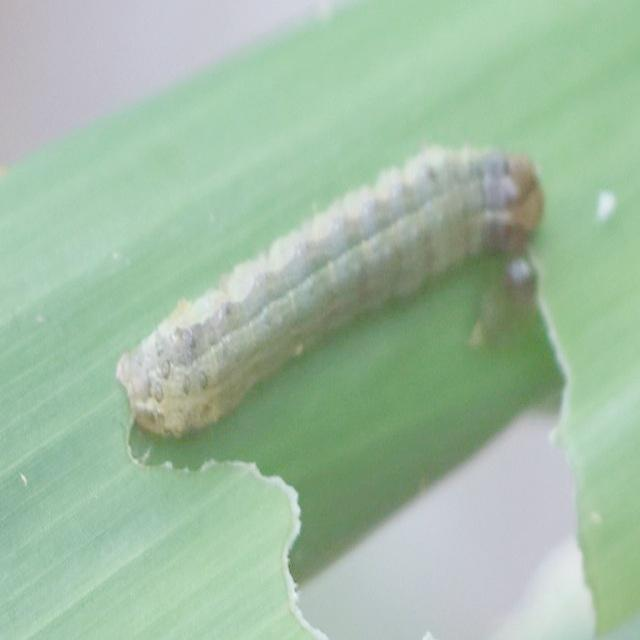worm: (115, 143, 545, 443)
